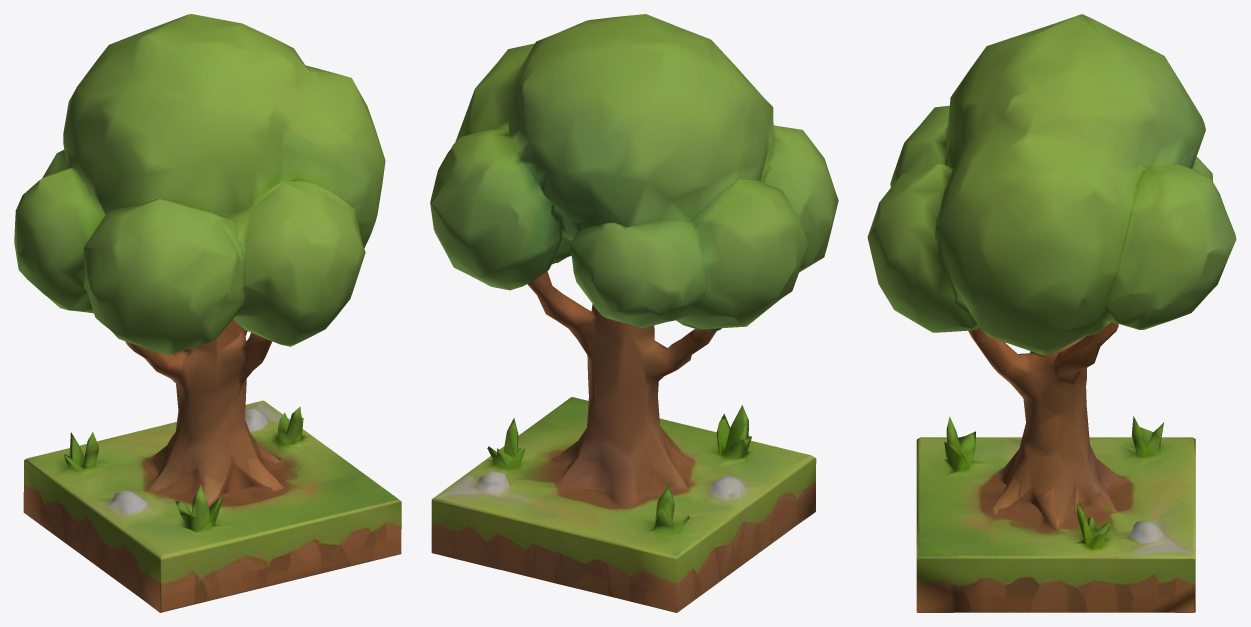
File: deco_tree.glb
3 views of the same model, side by side, from view 1: azimuth 30°, elevation 25°; view 2: azimuth 150°, elevation 25°; view 3: azimuth 270°, elevation 25° (orthographic). The views are drawn at different scales.
Visible parts, largest first — view 1: tripo_node_b681bb67-e590-4720-9fe4-e3385f03bbe8; view 2: tripo_node_b681bb67-e590-4720-9fe4-e3385f03bbe8; view 3: tripo_node_b681bb67-e590-4720-9fe4-e3385f03bbe8.
Boxes of the visible parts, x1=… form: tripo_node_b681bb67-e590-4720-9fe4-e3385f03bbe8: x1=14, y1=14, x2=401, y2=612; tripo_node_b681bb67-e590-4720-9fe4-e3385f03bbe8: x1=430, y1=14, x2=838, y2=612; tripo_node_b681bb67-e590-4720-9fe4-e3385f03bbe8: x1=867, y1=14, x2=1236, y2=612.
Bounding box in the file's own units: 0.92 × 1.3 × 0.8524.
Materials: 1 (1 with a texture image).
